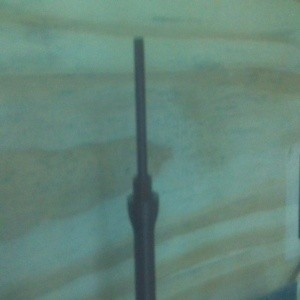obeng: (125, 36, 160, 300)
